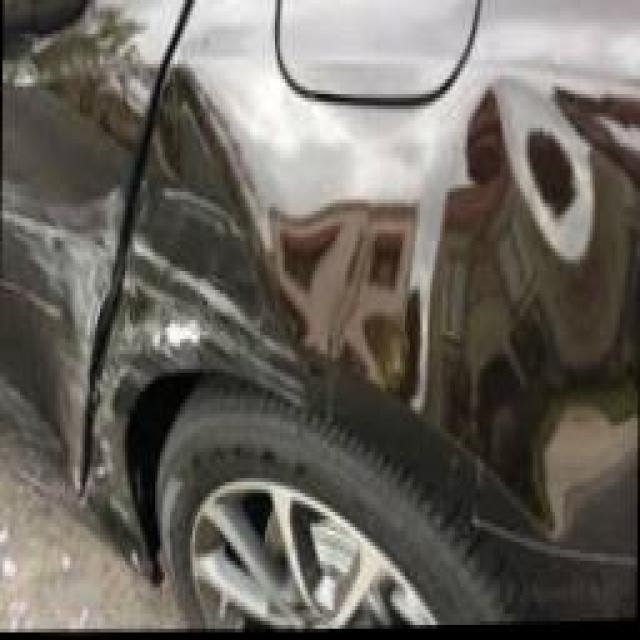Door: (1, 136, 131, 496)
Fender: (80, 170, 338, 597)
